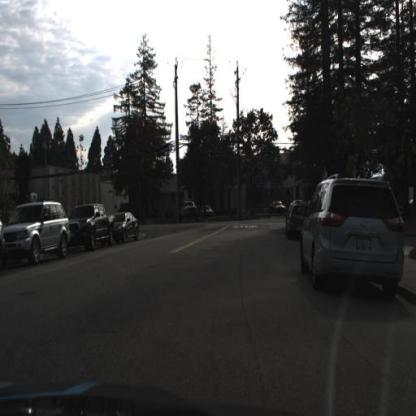car: (300, 169, 408, 295), (1, 200, 74, 265), (70, 201, 117, 252), (70, 199, 108, 256), (108, 209, 138, 246), (287, 199, 309, 243), (115, 210, 140, 245), (271, 196, 292, 223), (199, 200, 217, 220), (181, 199, 199, 218)
